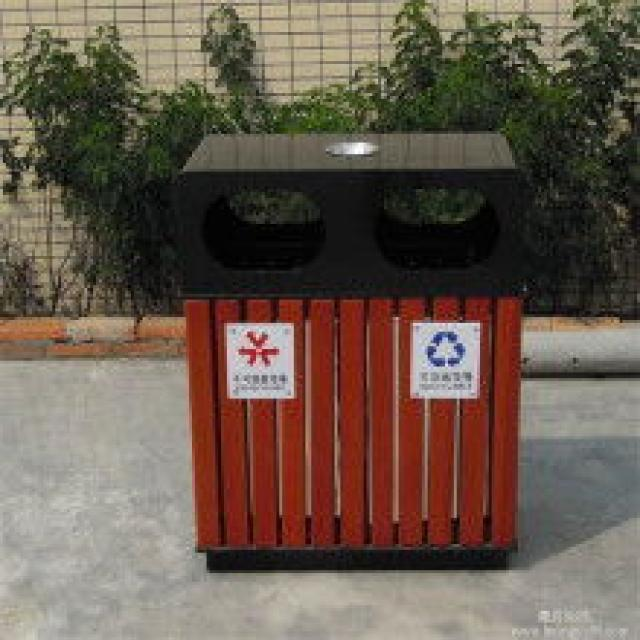garbage_bin: (177, 131, 521, 570)
